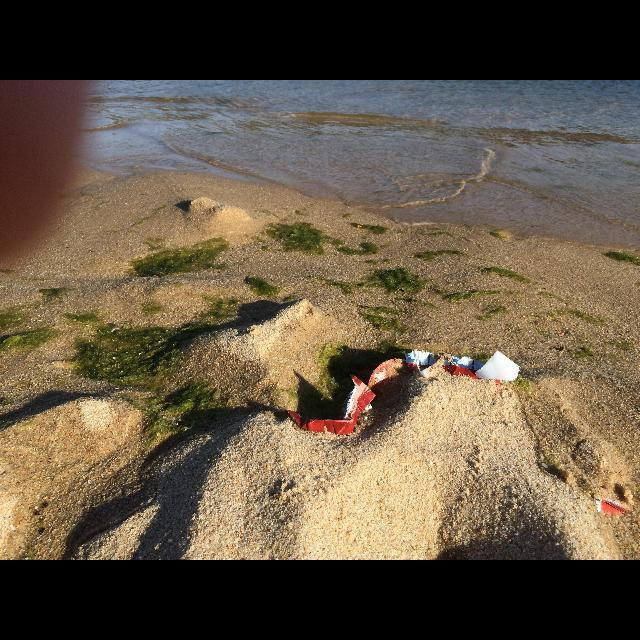Plastic: (286, 374, 376, 434), (406, 349, 520, 388), (368, 359, 408, 396), (594, 496, 628, 516)
